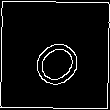O_NE: (21, 21, 89, 89)
